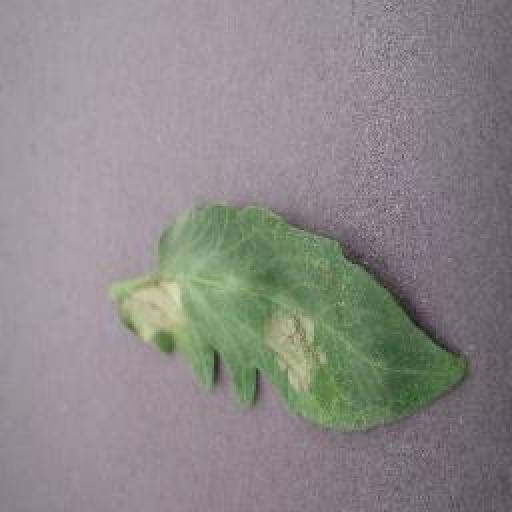disease_tomato: (122, 200, 470, 438)
